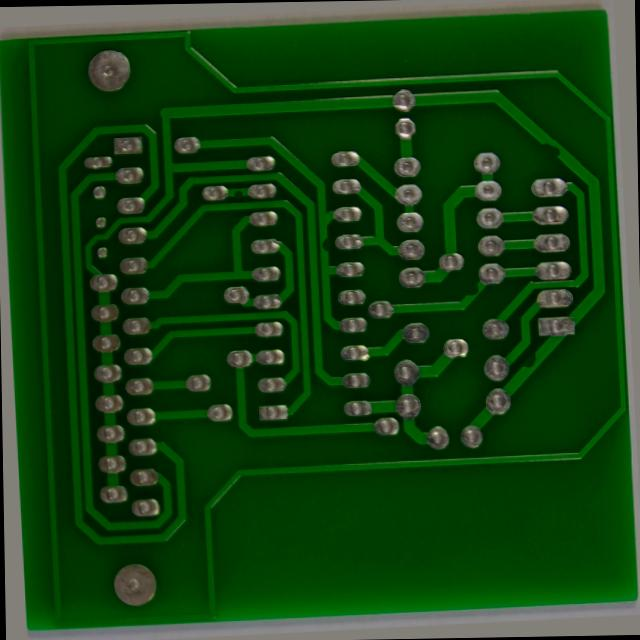mouse_bite: (522, 354, 550, 384), (553, 136, 580, 162), (470, 281, 489, 303), (320, 228, 337, 252), (233, 175, 247, 192)
